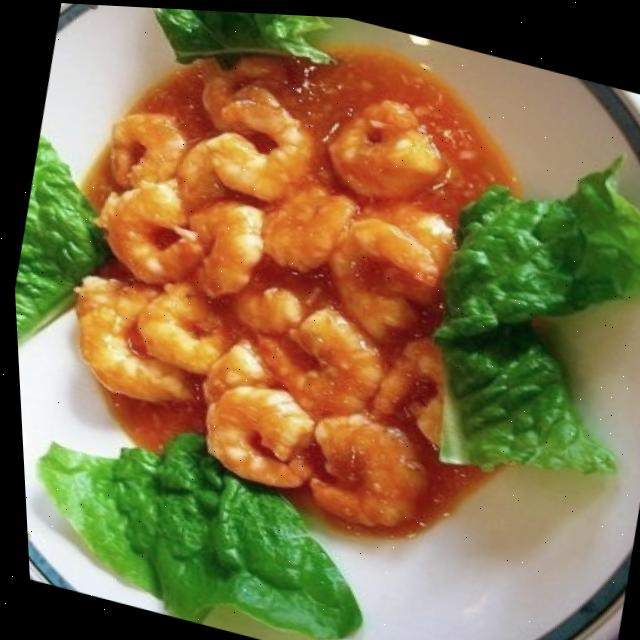熟制海鲜: (9, 0, 568, 572)
